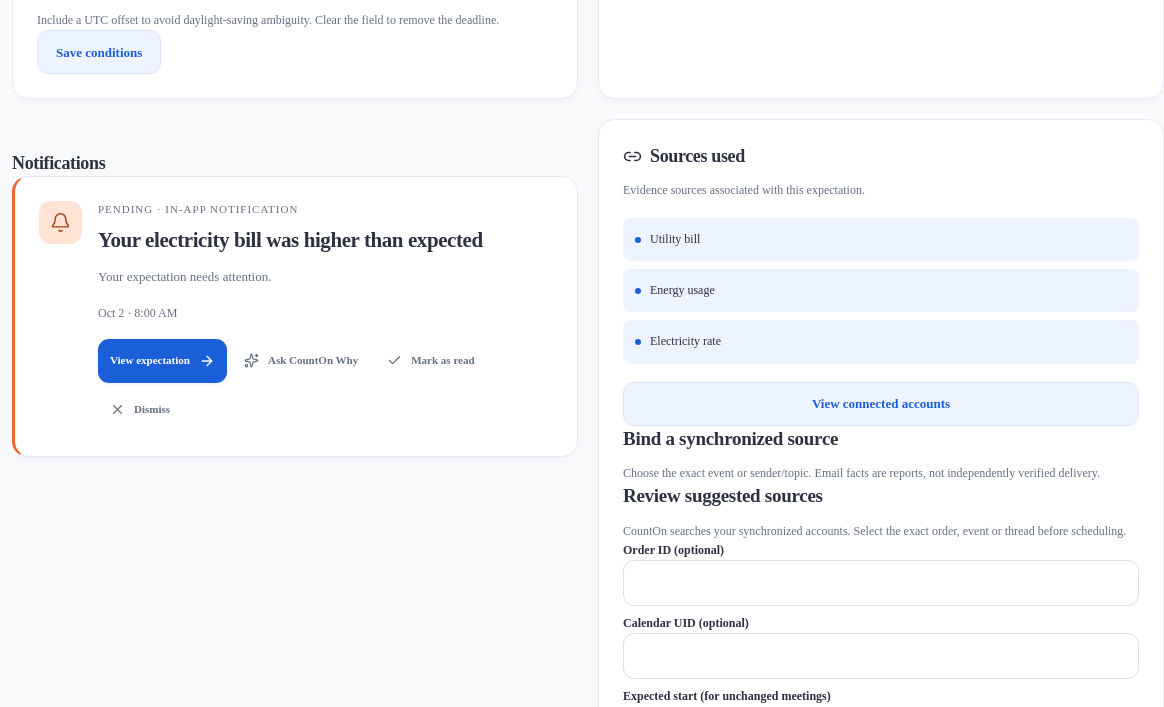
it: refreshes detail and shared board only after notification acknowledgement is persisted
(page scrolled)
Expected: the text "Pending · In-app notification" is shown, x1=98 y1=203 x2=298 y2=215
Click the button "Mark as read": coordinates (431, 361) x1=375 y1=339 x2=487 y2=383
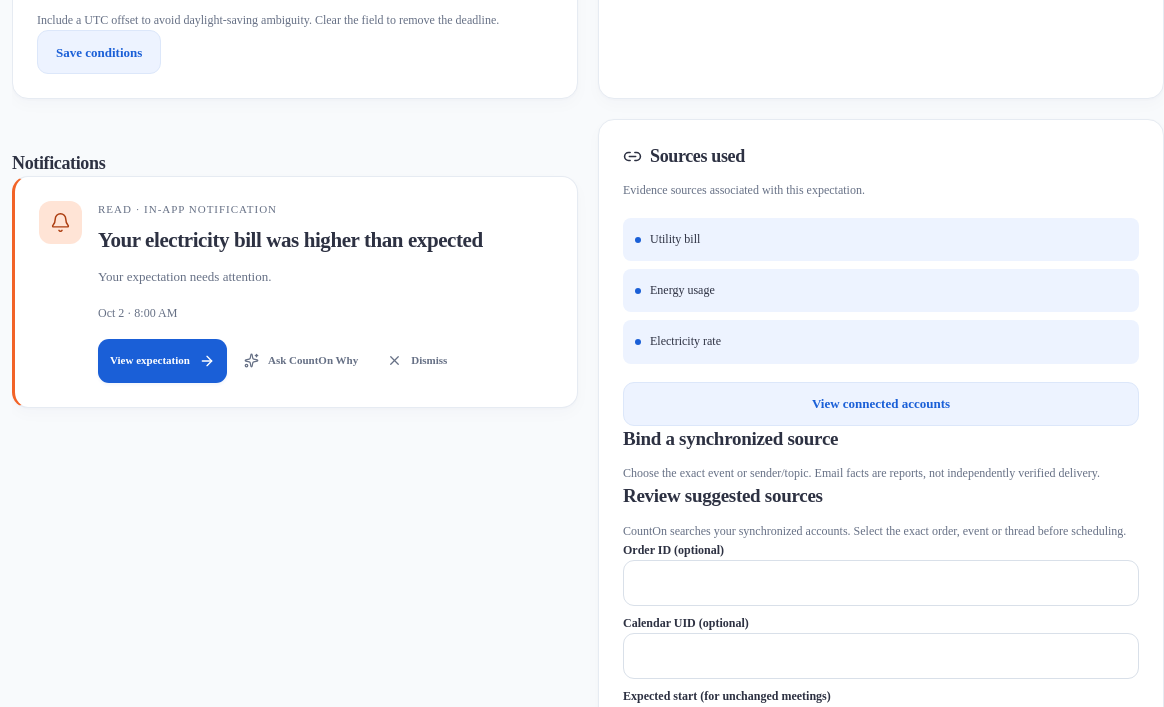
Now the text "Read · In-app notification" is shown, box x1=98 y1=203 x2=277 y2=215
